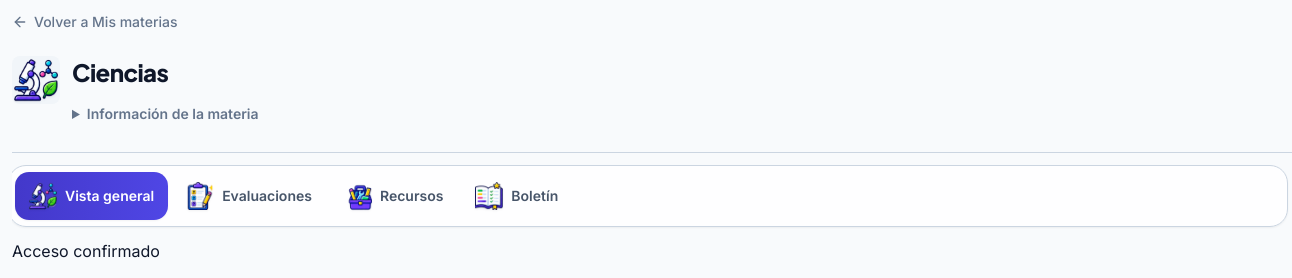
Test: MateriaDetailPage for students › 138 ofrece secciones visibles y deslizables con solo destinos autorizados
The width and height of the screenshot is (1292, 278).
Click the link "Evaluaciones" at (249, 196), box [186,182,312,210]
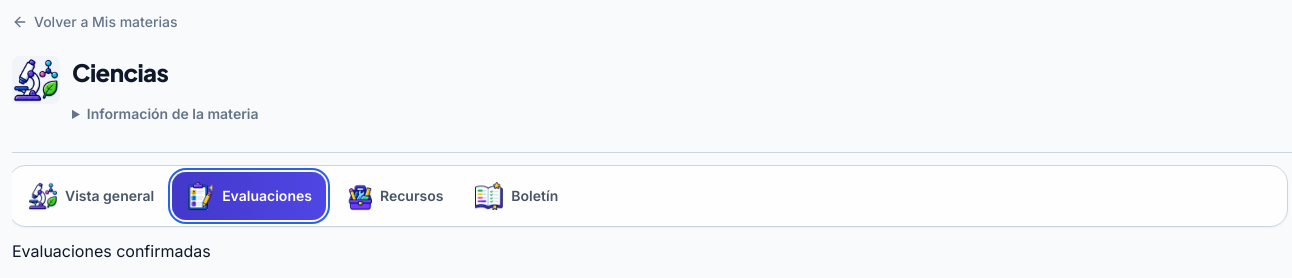
Expected: the text "Evaluaciones confirmadas" is shown, [12,241,211,261]
